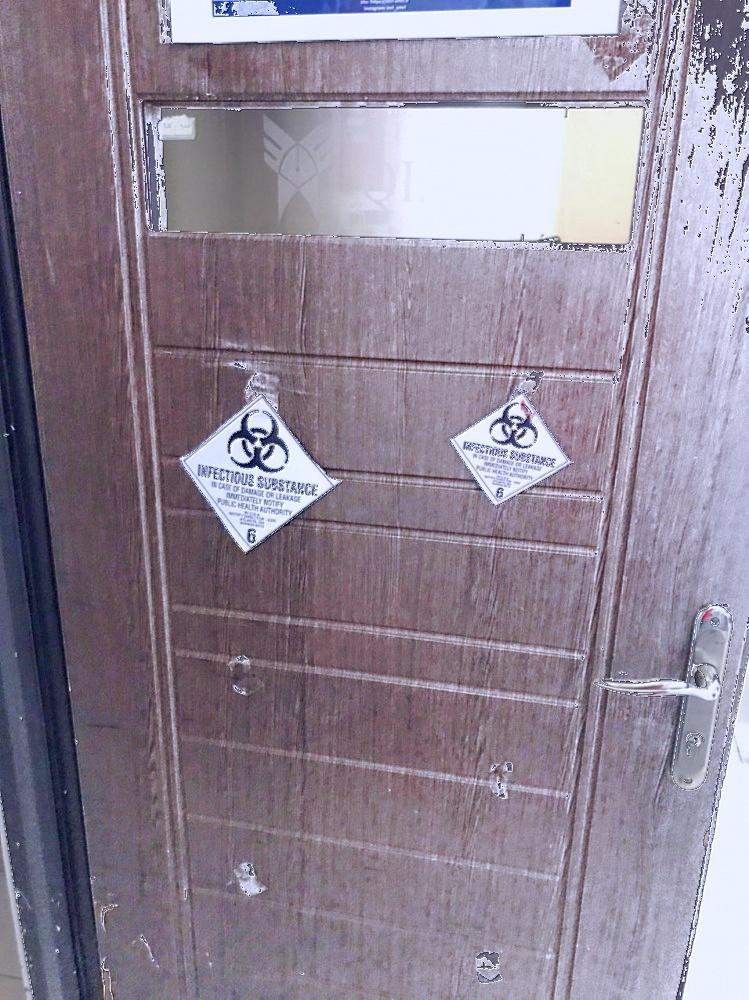infectious-substance: (183, 395, 334, 565), (450, 393, 573, 519)
